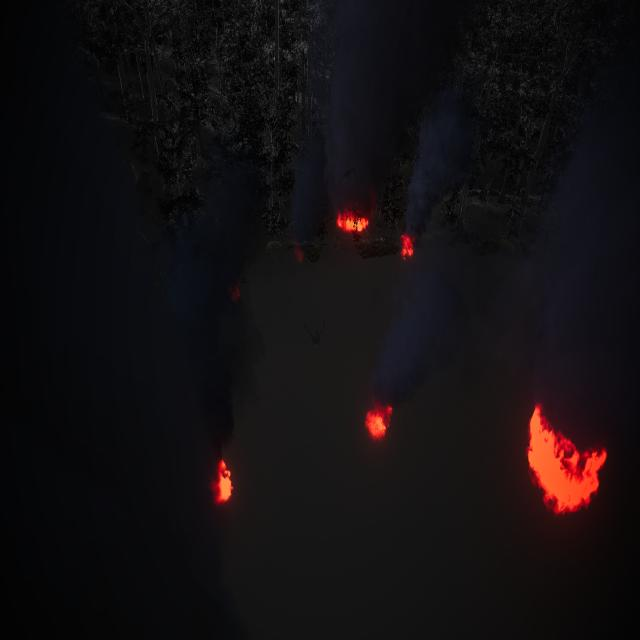Human: (304, 314, 332, 354)
